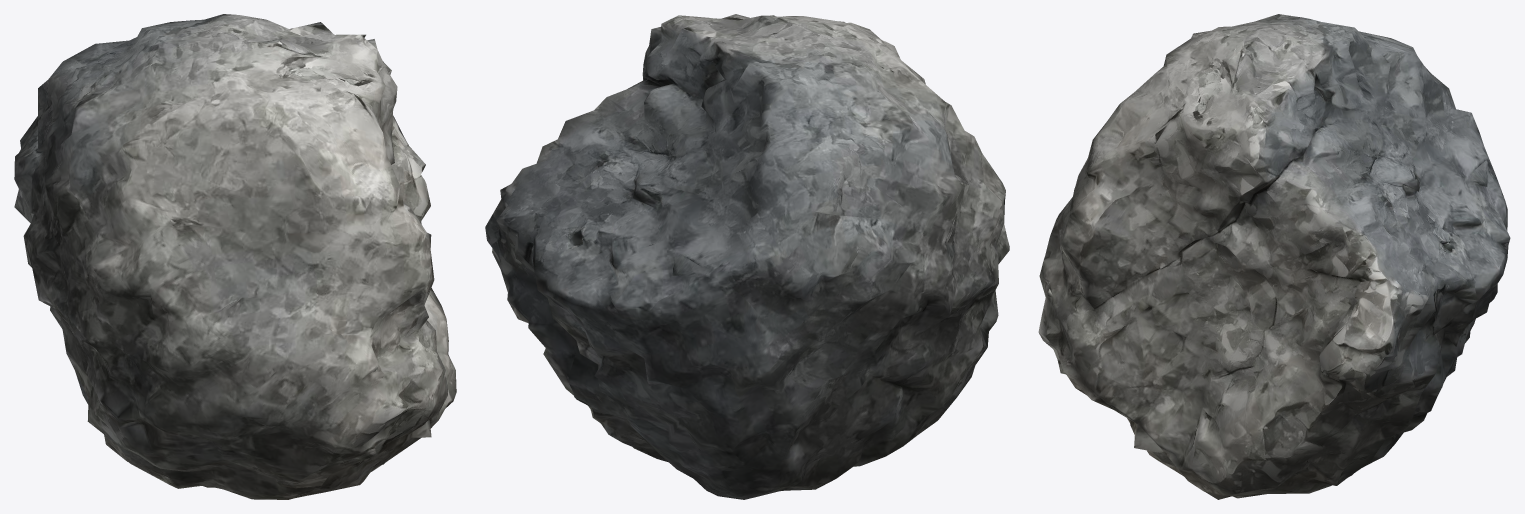
The model's file is qr_boulder1.glb.
3 renders of one model, left to right at view 1: azimuth 30°, elevation 25°; view 2: azimuth 150°, elevation 25°; view 3: azimuth 270°, elevation 25°, orthographic. The views are drawn at different scales.
Visible parts, largest first — view 1: tripo_node_43a3d36f-05bc-45bc-a972-4f74c9274ff1; view 2: tripo_node_43a3d36f-05bc-45bc-a972-4f74c9274ff1; view 3: tripo_node_43a3d36f-05bc-45bc-a972-4f74c9274ff1.
Boxes of the visible parts, <box> form: tripo_node_43a3d36f-05bc-45bc-a972-4f74c9274ff1: <box>14,14,456,499</box>; tripo_node_43a3d36f-05bc-45bc-a972-4f74c9274ff1: <box>485,14,1009,499</box>; tripo_node_43a3d36f-05bc-45bc-a972-4f74c9274ff1: <box>1038,14,1510,499</box>.
Bounding box in the file's own units: 0.977 × 0.9783 × 1.
Materials: 1 (1 with a texture image).
